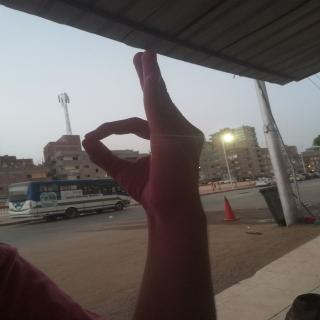Space: (71, 44, 210, 212)
